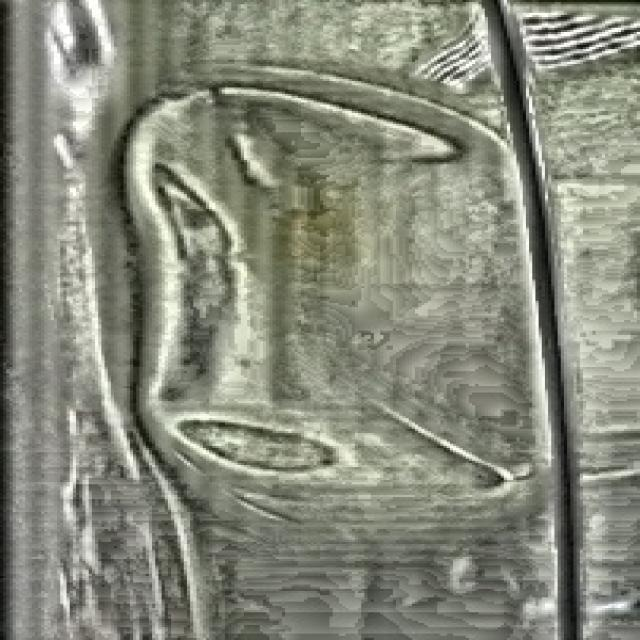dent: (127, 90, 526, 512)
